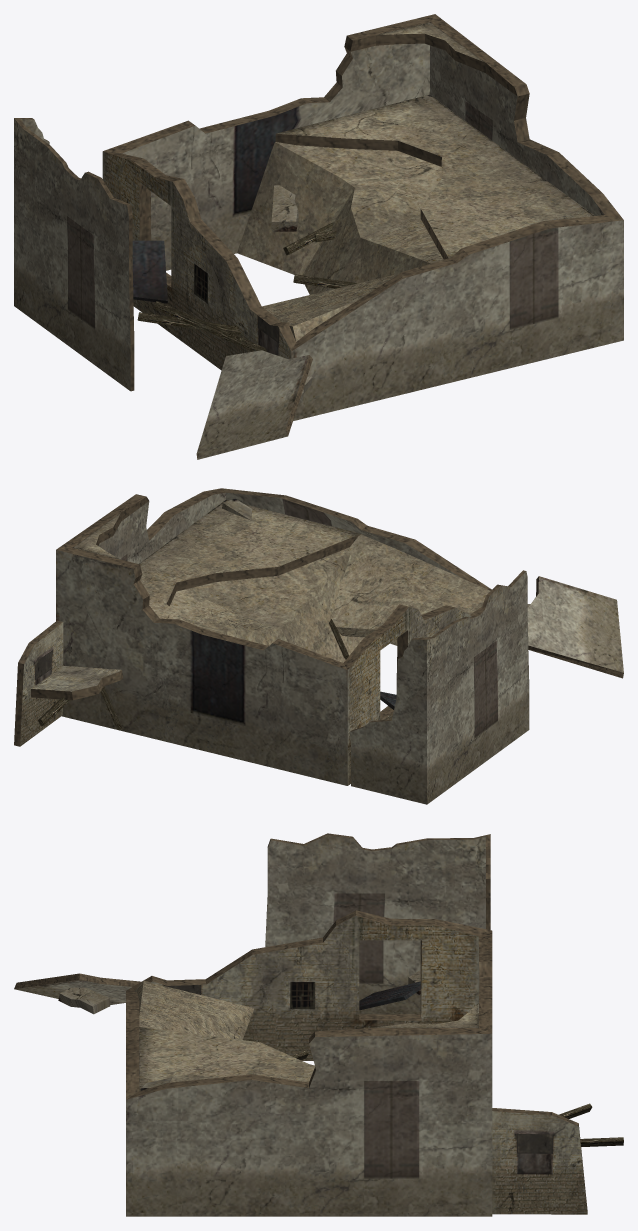
Rendered from buildings_23_ruin.FBX.
3 renders of one model, top to bottom at view 1: azimuth 30°, elevation 25°; view 2: azimuth 150°, elevation 25°; view 3: azimuth 270°, elevation 25°, orthographic. The views are drawn at different scales.
Parts seen in each view (by area): view 1: Box003; view 2: Box003; view 3: Box003.
Boxes of the visible parts, x1,y1,x2,y2 form: Box003: [14, 14, 623, 459]; Box003: [14, 488, 623, 804]; Box003: [14, 833, 623, 1216].
Bounding box in the file's own units: 1263 × 1550 × 514.
1 material, 1 textured.
